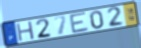0: (89, 10, 106, 31)
2: (106, 7, 126, 29), (35, 18, 53, 39)
7: (54, 15, 68, 37)
E: (69, 11, 91, 35)
H: (15, 20, 35, 42)
